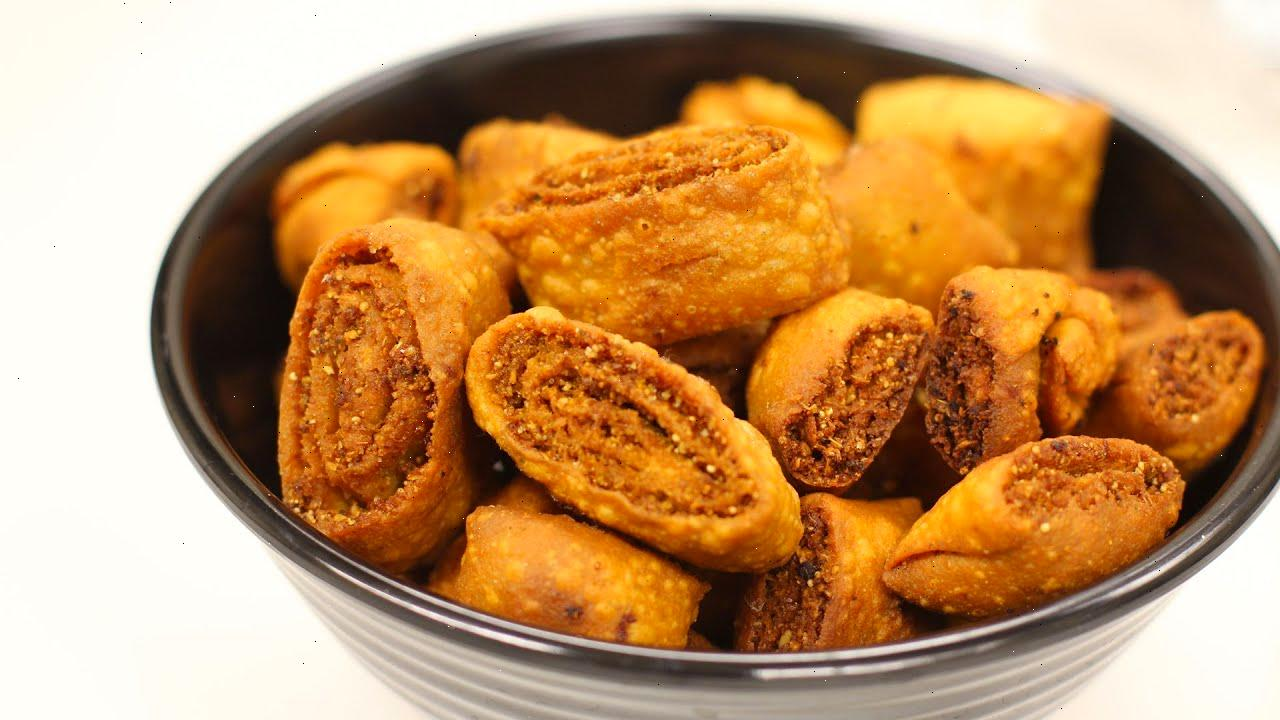bhakarwadi: (253, 80, 1257, 631)
